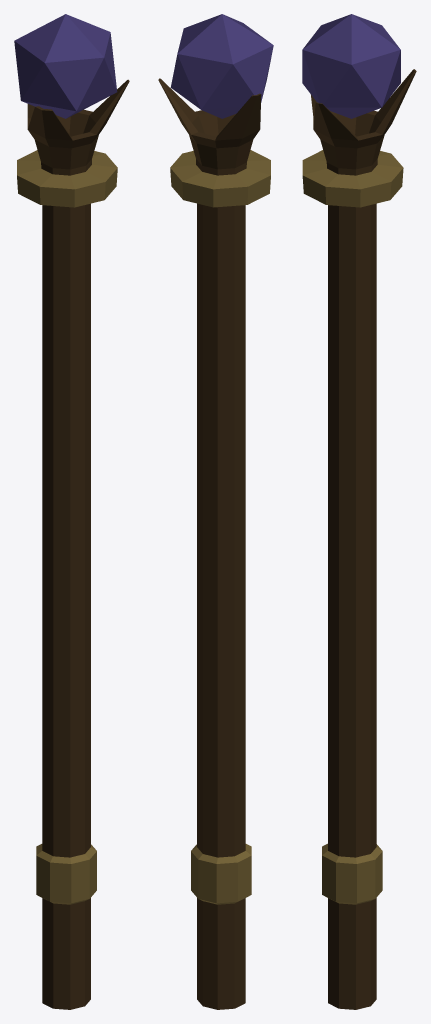
The model's file is rose-wand.glb.
3 renders of one model, left to right at view 1: azimuth 30°, elevation 25°; view 2: azimuth 210°, elevation 25°; view 3: azimuth 270°, elevation 25°, orthographic.
Parts seen in each view (by area): view 1: Rose Wand - self made; view 2: Rose Wand - self made; view 3: Rose Wand - self made.
Boxes of the visible parts, x1,y1,x2,y2 form: Rose Wand - self made: (14,14,129,1009); Rose Wand - self made: (158,14,273,1009); Rose Wand - self made: (302,14,416,1009).
Size of the model in its own units: 0.0673 by 0.6822 by 0.0717.
